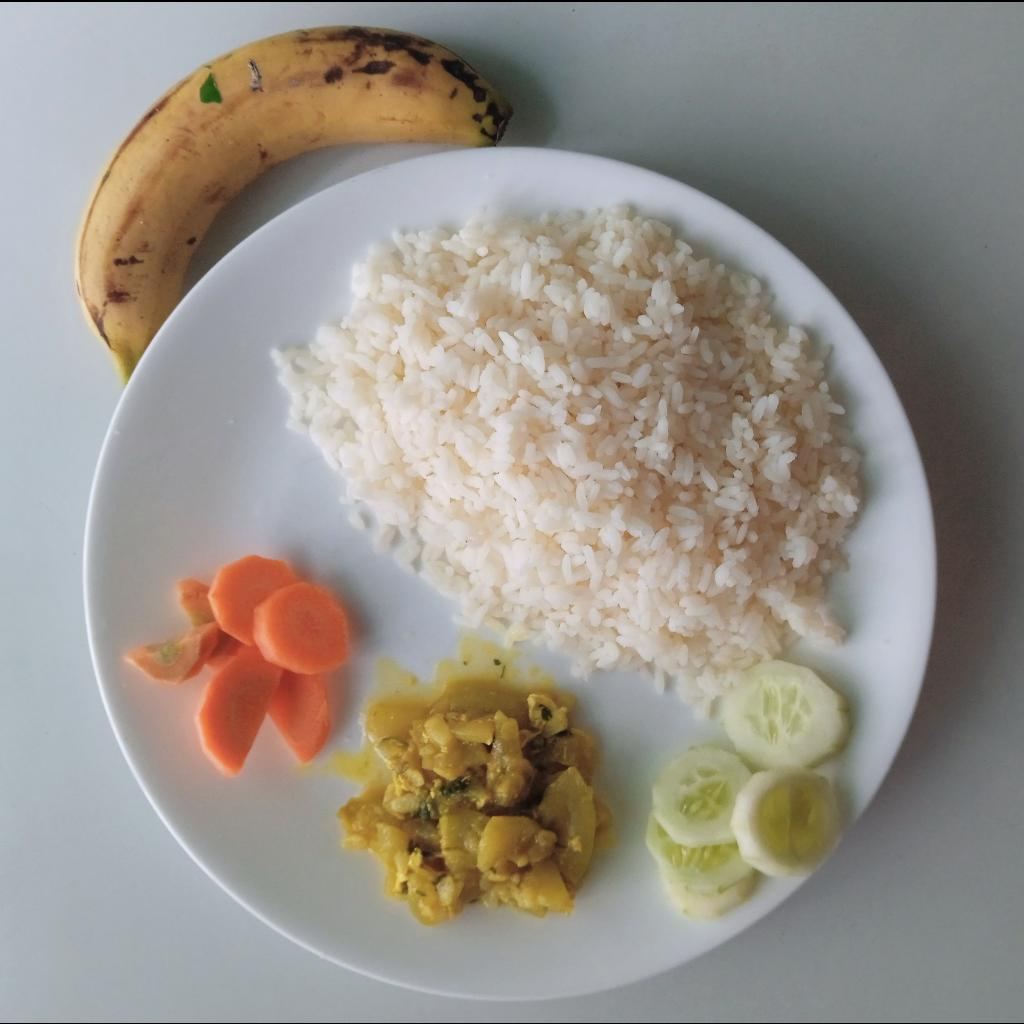banana: (77, 23, 515, 386)
carrot: (123, 554, 349, 779)
cucumber: (644, 660, 855, 918)
lau: (340, 684, 612, 924)
rice: (269, 205, 870, 717)
